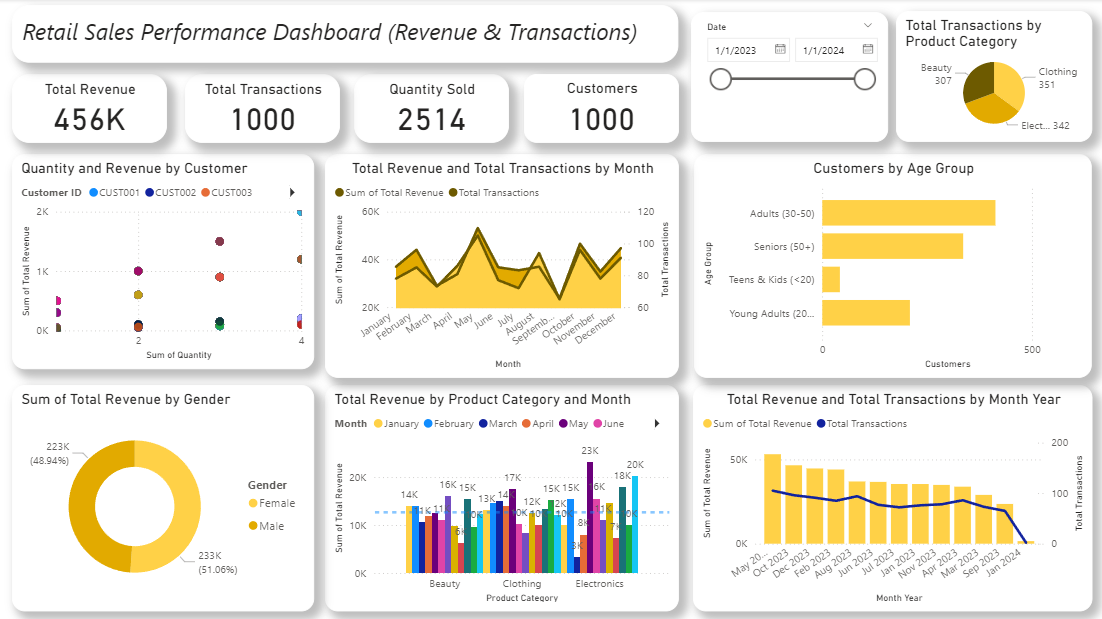

What the dashboard file says about the page in this screenshot:
{"tool":"powerbi","page":{"name":"Dashboard","canvas":[1280,720],"ordinal":5},"visuals":[{"type":"clusteredColumnChart","title":"Total Revenue by Product Category and Month","fields":{"Y":["Sum(retail_sales_dataset.Total Revenue)"],"Category":["retail_sales_dataset.Product Category"],"Series":["retail_sales_dataset.Date.Variation.Date Hierarchy.Month"]},"box":[377.8,447.8,411.1,263.3],"z":0},{"type":"scatterChart","title":"Quantity and Revenue by Customer ","fields":{"X":["Sum(retail_sales_dataset.Quantity)"],"Y":["Sum(retail_sales_dataset.Total Revenue)"],"Series":["retail_sales_dataset.Customer ID"]},"box":[14.4,180,351.1,250],"z":1000},{"type":"lineClusteredColumnComboChart","title":"Total Revenue and Total Transactions by Month Year","fields":{"Category":["retail_sales_dataset.Month Year"],"Y":["Sum(retail_sales_dataset.Total Revenue)"],"Y2":["retail_sales_dataset.Total Transactions"]},"box":[804.4,447.8,464.4,263.3],"z":2000},{"type":"barChart","fields":{"Category":["retail_sales_dataset.Age Group","retail_sales_dataset.Date.Variation.Date Hierarchy.Day"],"Y":["retail_sales_dataset.Customers"]},"box":[806.7,180,462.2,260],"z":3000},{"type":"donutChart","fields":{"Category":["retail_sales_dataset.Gender"],"Y":["Sum(retail_sales_dataset.Total Revenue)"]},"box":[14.4,447.8,351.1,263.3],"z":4000},{"type":"lineChart","title":"Total Revenue and Total Transactions by Month","fields":{"Category":["retail_sales_dataset.Date.Variation.Date Hierarchy.Year","retail_sales_dataset.Date.Variation.Date Hierarchy.Quarter","retail_sales_dataset.Date.Variation.Date Hierarchy.Month","retail_sales_dataset.Date.Variation.Date Hierarchy.Day"],"Y":["Sum(retail_sales_dataset.Total Revenue)"],"Y2":["retail_sales_dataset.Total Transactions"]},"box":[377.8,180,411.1,260],"z":5000},{"type":"card","title":"Total Revenue","fields":{"Values":["Sum(retail_sales_dataset.Total Revenue)"]},"box":[14.4,86.7,180,80],"z":6000},{"type":"card","title":"Quantity Sold","fields":{"Values":["Sum(retail_sales_dataset.Quantity)"]},"box":[411.1,86.7,180,80],"z":7000},{"type":"card","title":"Total Transactions","fields":{"Values":["CountNonNull(retail_sales_dataset.Transaction ID)"]},"box":[214.4,86.7,180,80],"z":8000},{"type":"textbox","box":[14.4,6.7,774.4,66.7],"z":9000},{"type":"card","title":"Customers","fields":{"Values":["retail_sales_dataset.Customers"]},"box":[608.9,86.7,180,80],"z":10000},{"type":"slicer","fields":{"Values":["retail_sales_dataset (2).Date"]},"box":[802.2,15.6,228.9,151.1],"z":11000},{"type":"pieChart","fields":{"Category":["retail_sales_dataset.Product Category"],"Y":["retail_sales_dataset.Total Transactions"]},"box":[1041.1,14.4,227.8,152.2],"z":12000}]}

Visuals, with their boxes in screenshot pixels (x1, y1, x2, y2), scaled from the page's 1280x720 canvas onto the 1102x619 screenshot:
"Total Revenue by Product Category and Month" clusteredColumnChart: select_region(325, 385, 679, 611)
"Quantity and Revenue by Customer " scatterChart: select_region(12, 155, 315, 370)
"Total Revenue and Total Transactions by Month Year" lineClusteredColumnComboChart: select_region(693, 385, 1092, 611)
barChart - retail_sales_dataset.Age Group x retail_sales_dataset.Date.Variation.Date Hierarchy.Day: select_region(695, 155, 1092, 378)
donutChart - retail_sales_dataset.Gender x Sum(retail_sales_dataset.Total Revenue): select_region(12, 385, 315, 611)
"Total Revenue and Total Transactions by Month" lineChart: select_region(325, 155, 679, 378)
"Total Revenue" card: select_region(12, 75, 167, 143)
"Quantity Sold" card: select_region(354, 75, 509, 143)
"Total Transactions" card: select_region(185, 75, 340, 143)
textbox: select_region(12, 6, 679, 63)
"Customers" card: select_region(524, 75, 679, 143)
slicer - retail_sales_dataset (2).Date: select_region(691, 13, 888, 143)
pieChart - retail_sales_dataset.Product Category x retail_sales_dataset.Total Transactions: select_region(896, 12, 1092, 143)
